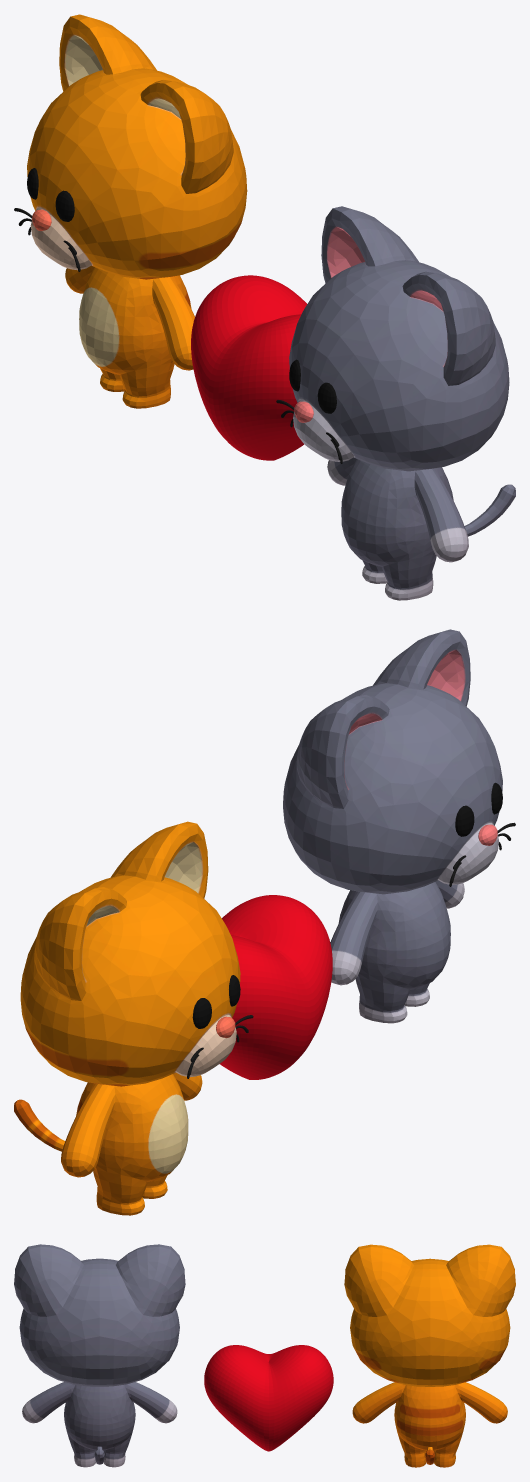
3 renders of one model, top to bottom at view 1: azimuth 30°, elevation 25°; view 2: azimuth 150°, elevation 25°; view 3: azimuth 270°, elevation 25°, orthographic. The views are drawn at different scales.
Parts seen in each view (by area): view 1: X7OX8NCAAO8XAACTXR1MU225D, 769VX6IYQX8AUUI1GENFM1OJ7, Heart; view 2: 769VX6IYQX8AUUI1GENFM1OJ7, X7OX8NCAAO8XAACTXR1MU225D, Heart; view 3: X7OX8NCAAO8XAACTXR1MU225D, 769VX6IYQX8AUUI1GENFM1OJ7, Heart.
Part boxes in pixels (x1=…): X7OX8NCAAO8XAACTXR1MU225D: x1=276, y1=206, x2=515, y2=600; 769VX6IYQX8AUUI1GENFM1OJ7: x1=14, y1=14, x2=247, y2=408; Heart: x1=191, y1=275, x2=306, y2=460; 769VX6IYQX8AUUI1GENFM1OJ7: x1=14, y1=821, x2=253, y2=1215; X7OX8NCAAO8XAACTXR1MU225D: x1=283, y1=629, x2=515, y2=1023; Heart: x1=220, y1=895, x2=332, y2=1079; X7OX8NCAAO8XAACTXR1MU225D: x1=14, y1=1244, x2=185, y2=1467; 769VX6IYQX8AUUI1GENFM1OJ7: x1=344, y1=1244, x2=515, y2=1467; Heart: x1=204, y1=1345, x2=333, y2=1451.
Bounding box in the file's own units: 1.69 × 2.5 × 5.31.
Materials: 3 (2 with a texture image).
